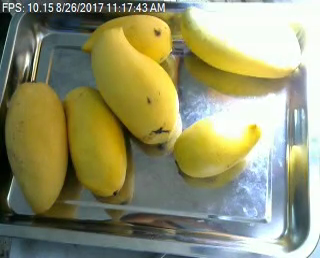Mango: (91, 26, 177, 144), (178, 5, 301, 77), (5, 80, 67, 210), (65, 85, 128, 194), (174, 108, 262, 176), (83, 13, 172, 66)
